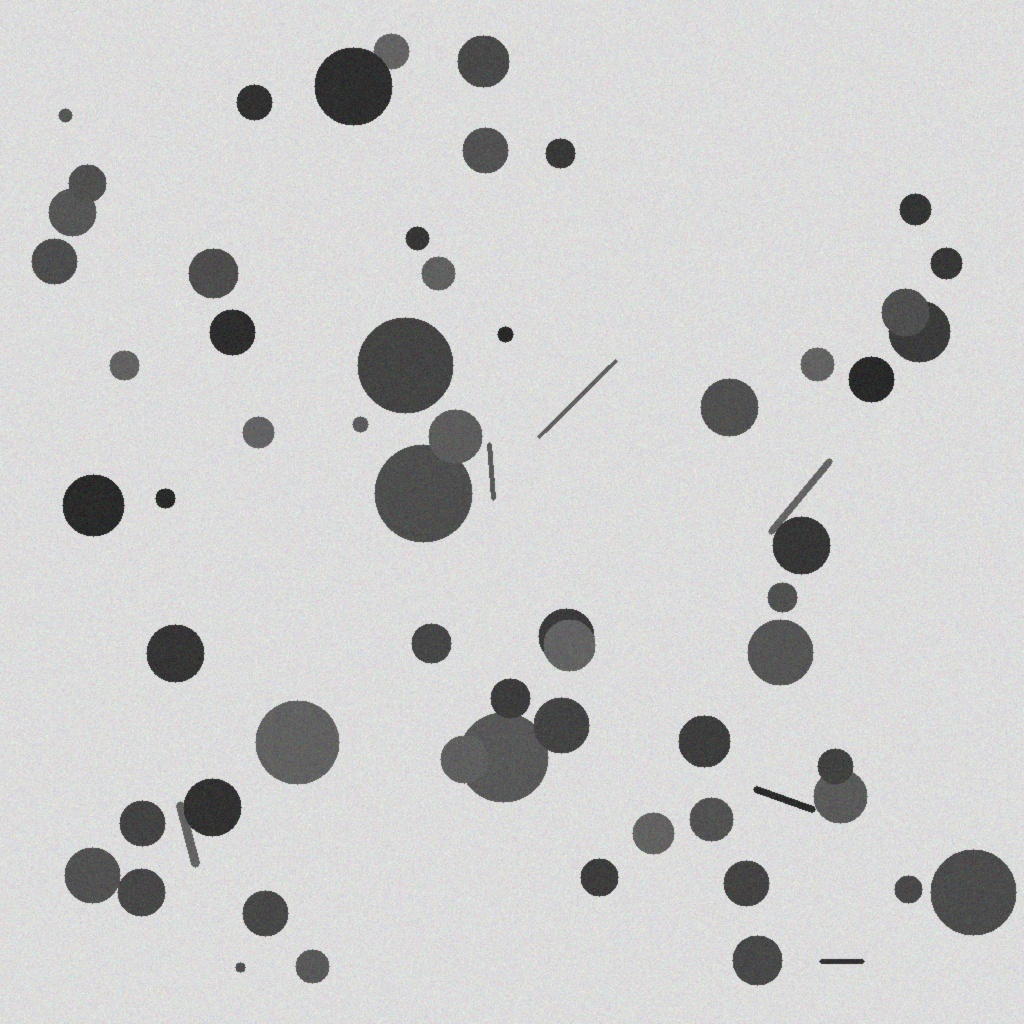fibra: (356, 321, 455, 412), (254, 702, 336, 785), (319, 52, 389, 126)
